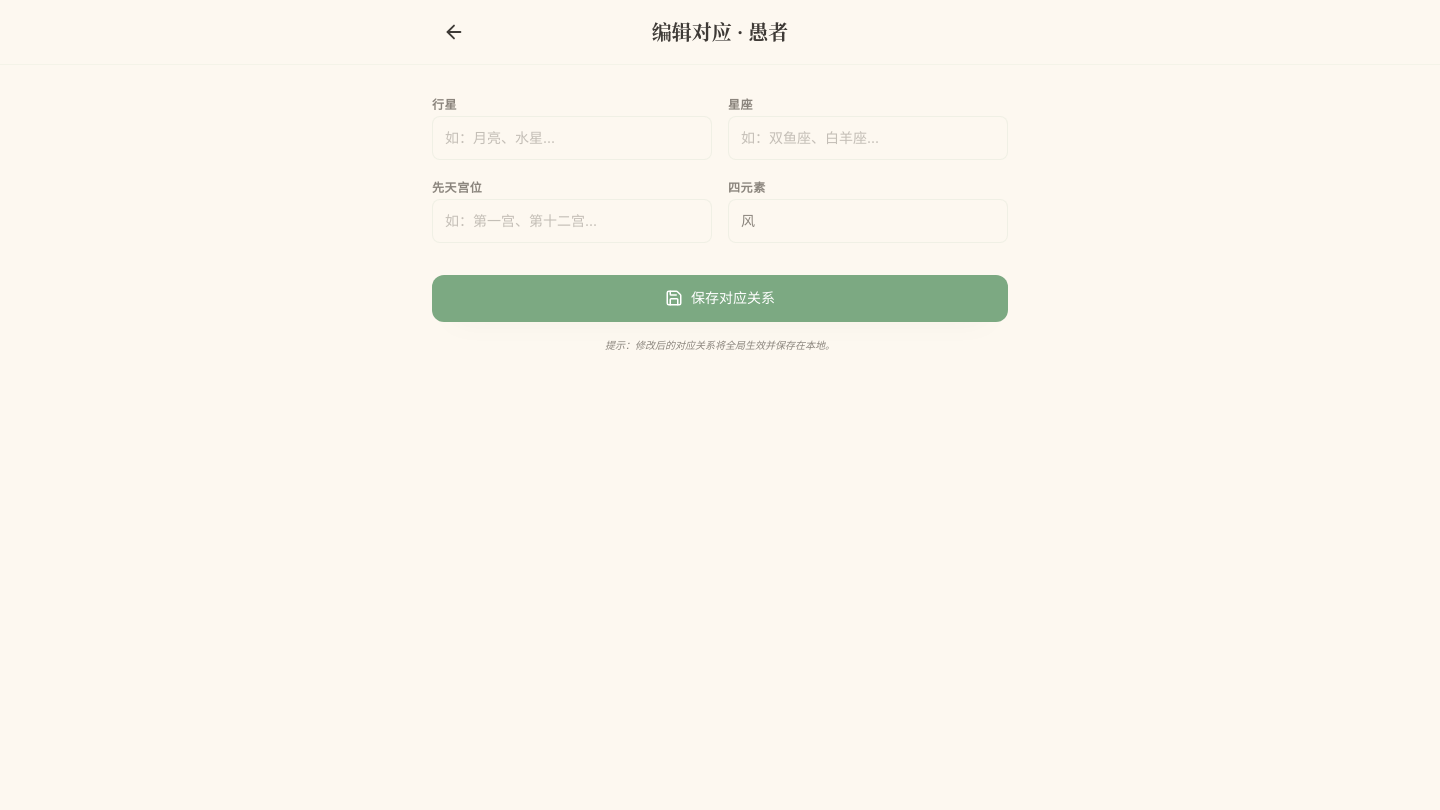
Test: study page navigation › keeps correspondence edits after save failure and guards leaving an unsaved page
This screenshot has width=1440, height=810.
Step 1. Type "水星" into the field with placeholder "如：月亮、水星..." → (572, 138), box [432,116,712,160]
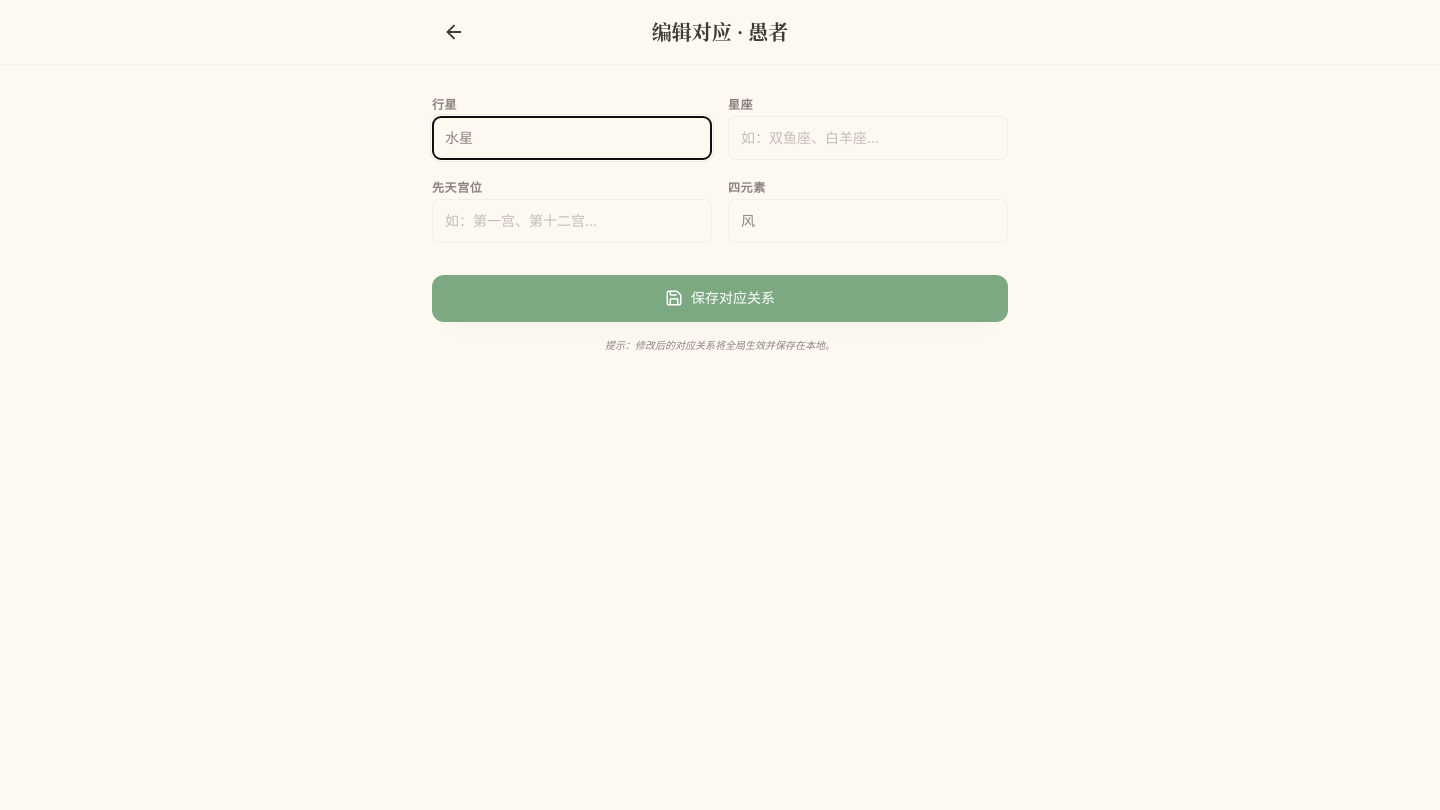
Step 2. Click the button "保存对应关系" → (720, 298), box [432,274,1008,321]
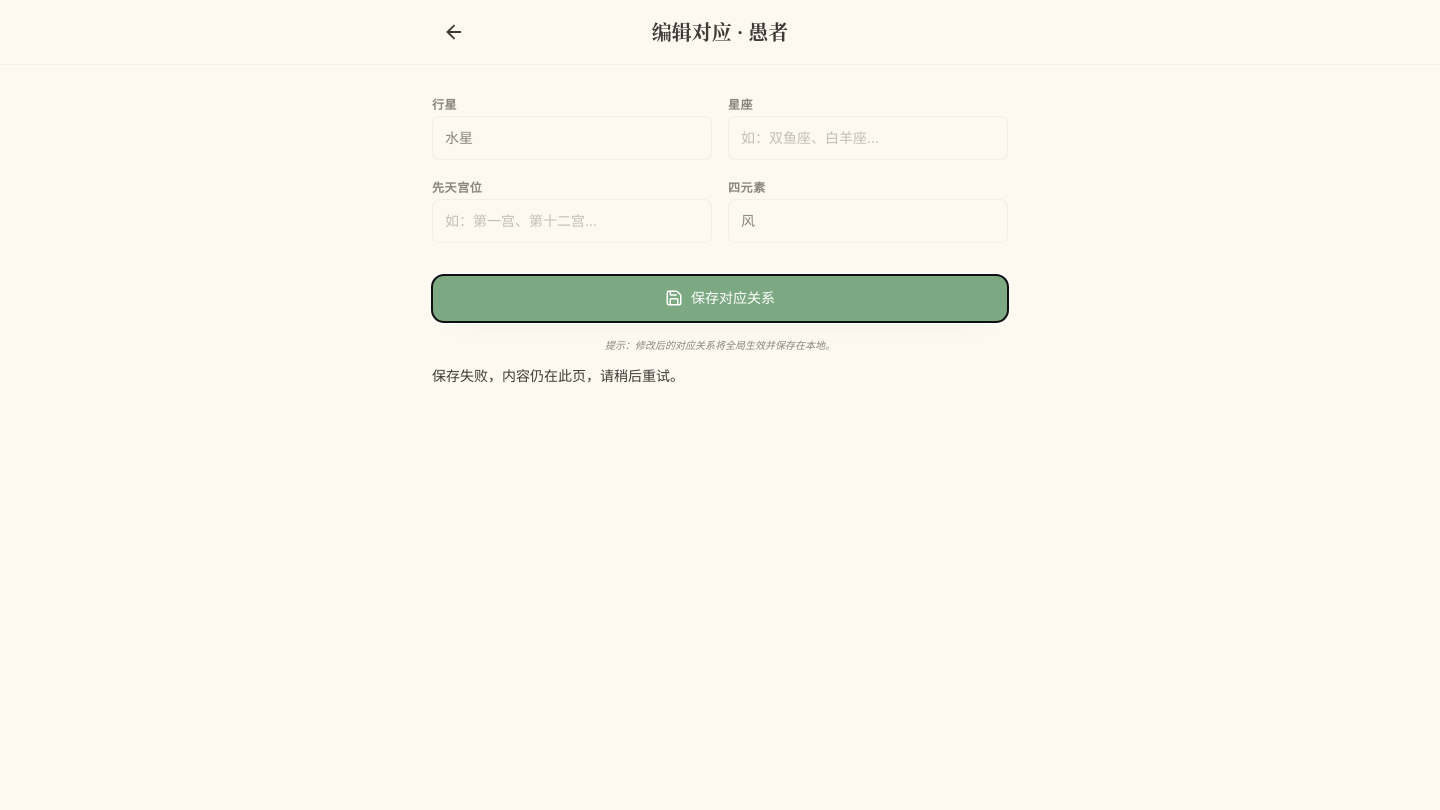
Expected: the message shows "保存失败", [432,366,684,384]
Step 3. Press Escape
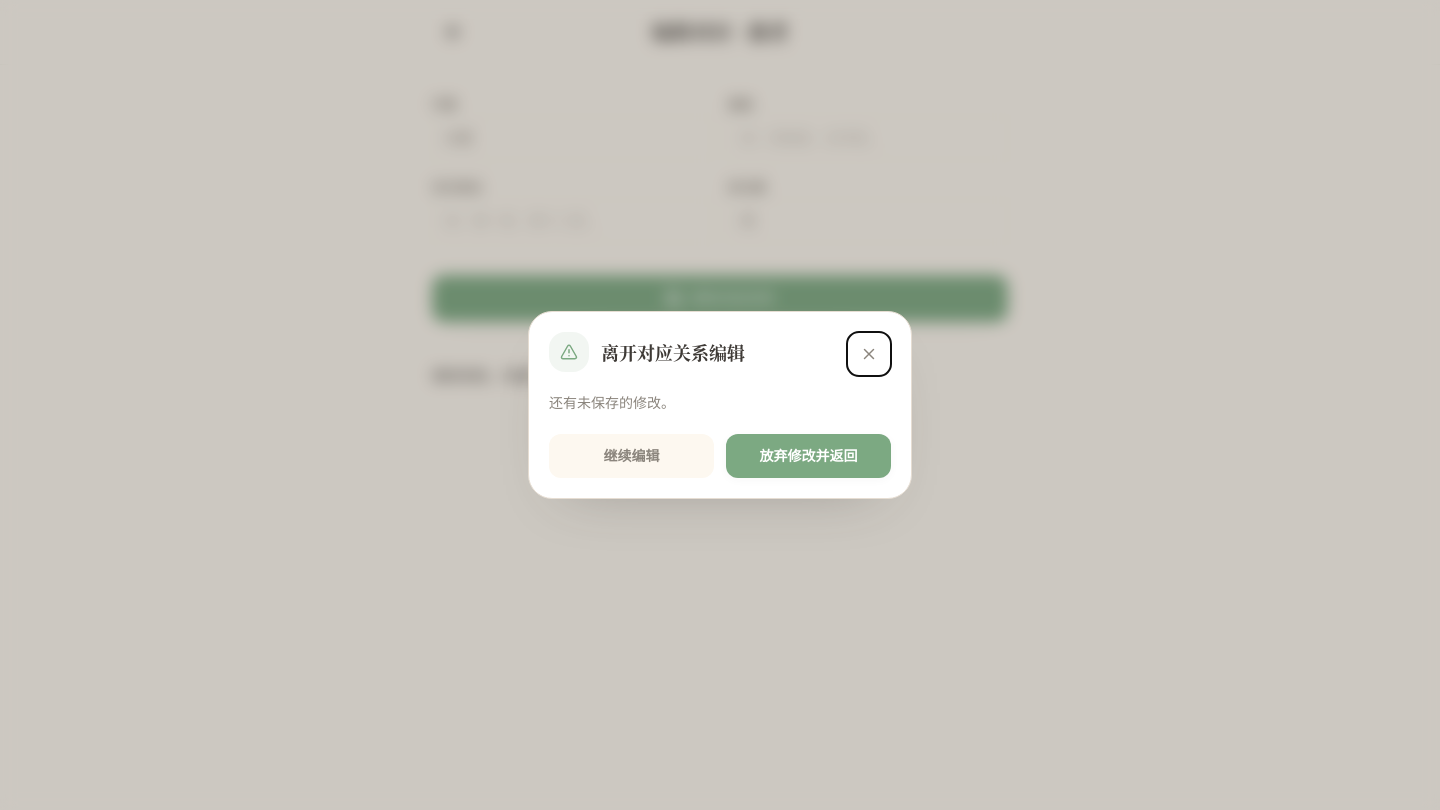
Expected: the dialog "离开对应关系编辑" is shown, [528,311,912,499]
Step 4. Click the button "继续编辑" → (632, 456), box [549,434,714,478]
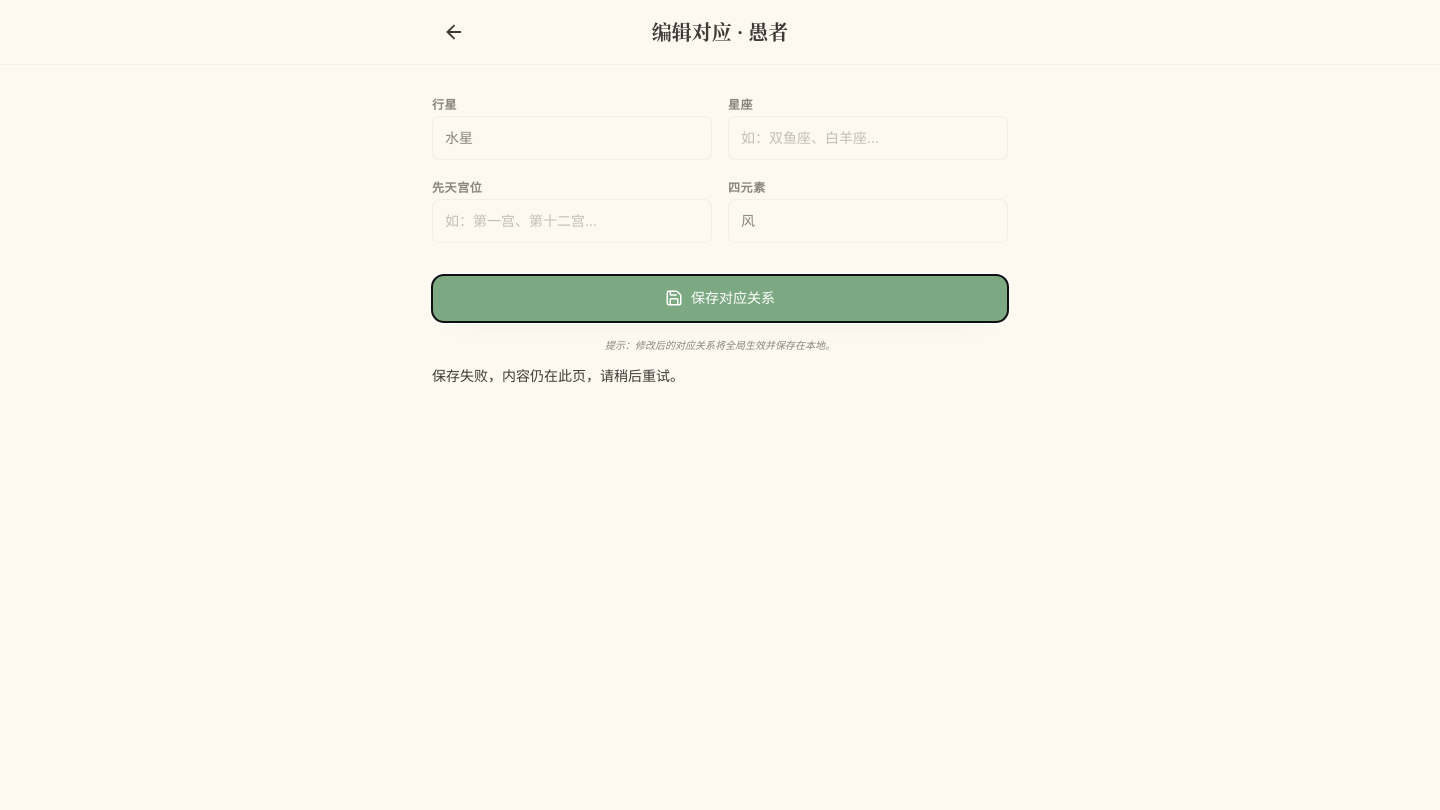
Expected: the dialog is gone
